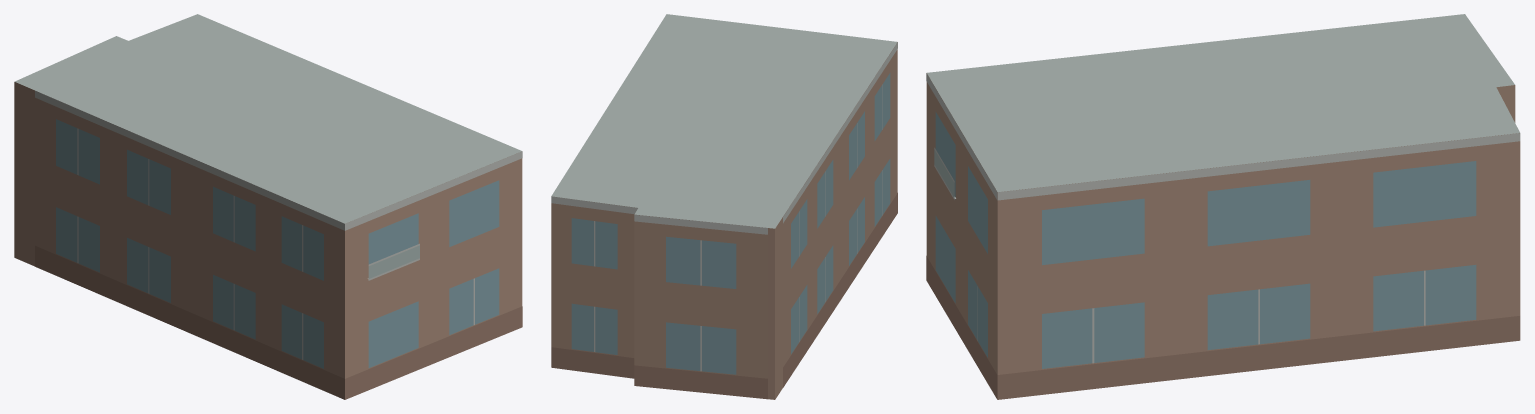
The model's file is survey-upis-32605961.glb.
The picture shows the model from 3 angles, left to right: view 1: azimuth 30°, elevation 25°; view 2: azimuth 150°, elevation 25°; view 3: azimuth 270°, elevation 25°; orthographic projection. The views are drawn at different scales.
Visible parts, largest first — view 1: survey-upis-32605961.tmp; view 2: survey-upis-32605961.tmp; view 3: survey-upis-32605961.tmp.
Part boxes in pixels (left/top/right/bottom): survey-upis-32605961.tmp: left=14, top=14, right=522, bottom=399; survey-upis-32605961.tmp: left=551, top=14, right=897, bottom=399; survey-upis-32605961.tmp: left=926, top=14, right=1520, bottom=399.
Size of the model in its own units: 11.24 by 6.1 by 15.82.
